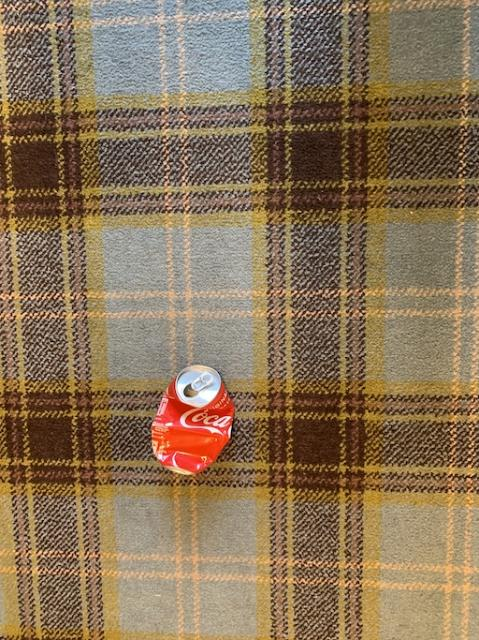metal: (151, 365, 233, 472)
